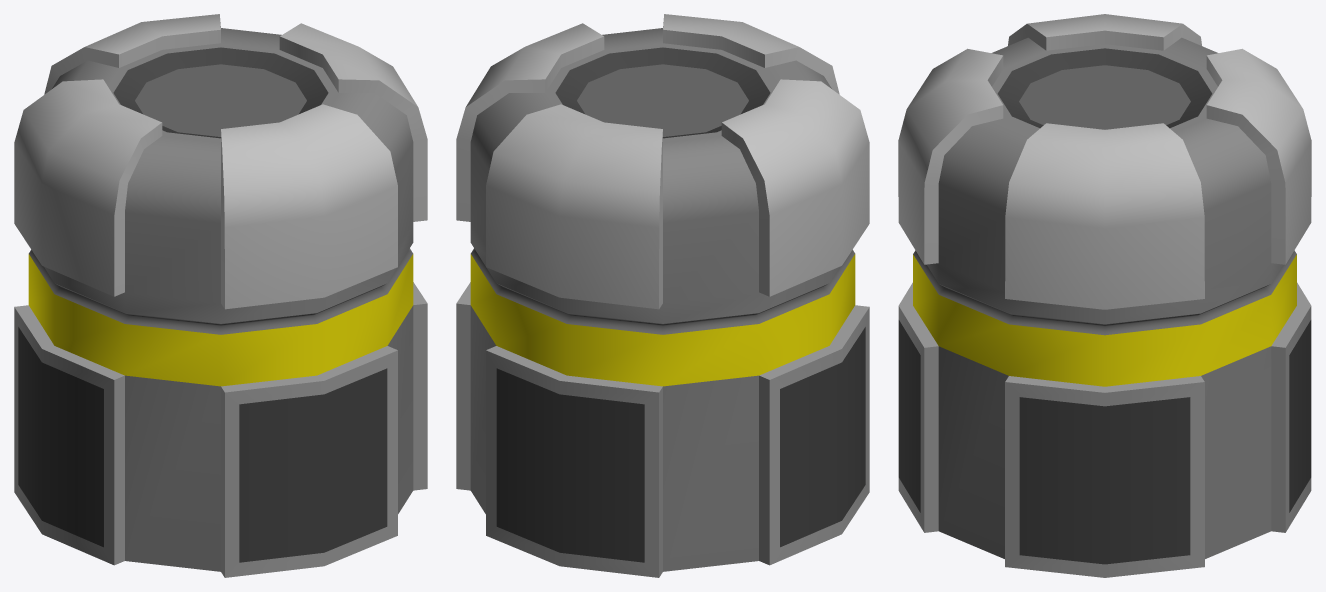
The model's file is SM_RoundCrate_01.fbx.
3 renders of one model, left to right at view 1: azimuth 30°, elevation 25°; view 2: azimuth 150°, elevation 25°; view 3: azimuth 270°, elevation 25°, orthographic.
Parts seen in each view (by area): view 1: SM_RoundCrate_01; view 2: SM_RoundCrate_01; view 3: SM_RoundCrate_01.
Part boxes in pixels (x1,y1,x2,y2): SM_RoundCrate_01: (14,14,427,577); SM_RoundCrate_01: (456,14,869,577); SM_RoundCrate_01: (898,14,1311,577).
Bounding box in the file's own units: 73.18 × 80.16 × 73.18.
Materials: 1 (1 with a texture image).
